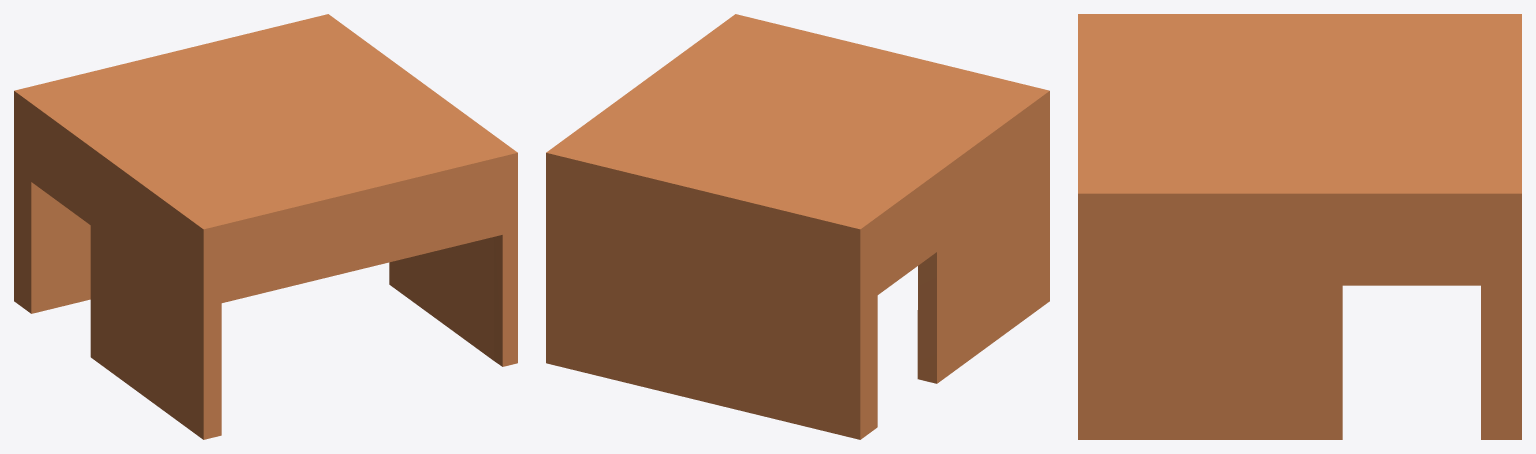
File: BowlingCover.obj
3 views of the same model, side by side, from view 1: azimuth 30°, elevation 25°; view 2: azimuth 150°, elevation 25°; view 3: azimuth 270°, elevation 25° (orthographic). The views are drawn at different scales.
Parts seen in each view (by area): view 1: BowlingCover; view 2: BowlingCover; view 3: BowlingCover.
Part boxes in pixels (bbox=[...]): BowlingCover: bbox=[14, 14, 517, 439]; BowlingCover: bbox=[546, 14, 1049, 439]; BowlingCover: bbox=[1078, 14, 1521, 439].
Bounding box in the file's own units: 1.75 × 1.12 × 1.82.
